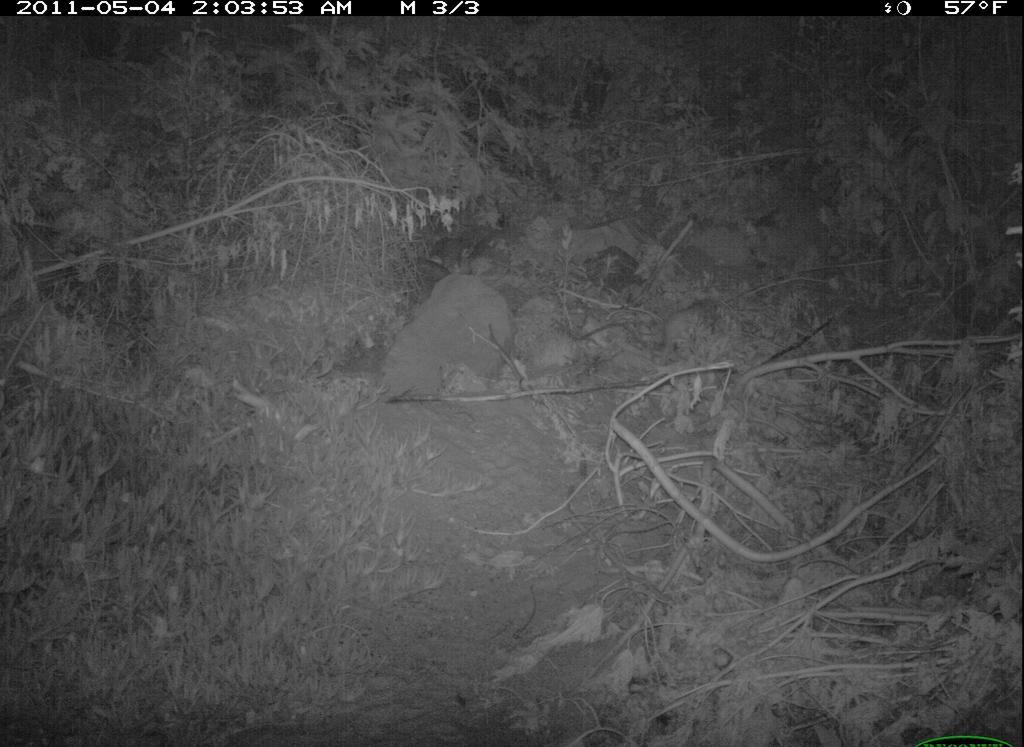opossum: (653, 297, 728, 367)
